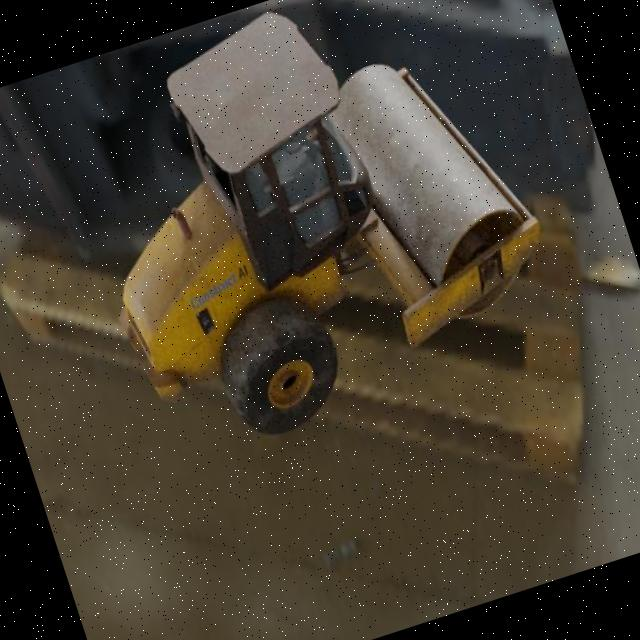Roller: (41, 0, 576, 470)
